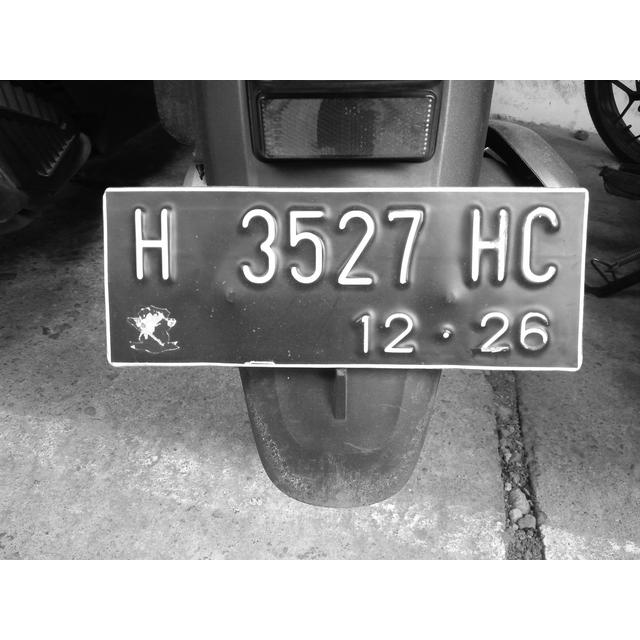license: (121, 197, 572, 362)
